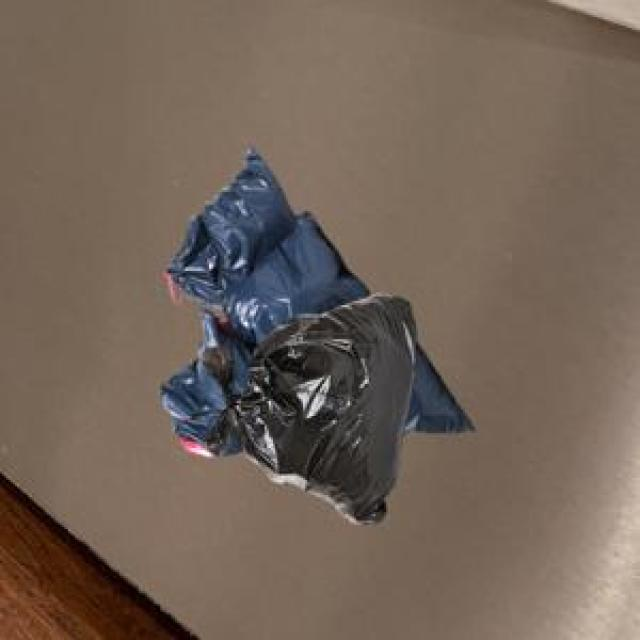Trashbag: (200, 294, 429, 532), (156, 152, 289, 311)
